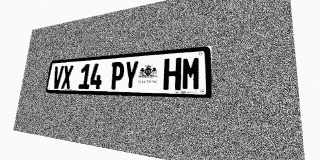1: (78, 64, 92, 89)
4: (89, 63, 103, 89)
H: (163, 57, 181, 90)
M: (181, 56, 201, 90)
P: (109, 61, 125, 89)
V: (52, 66, 64, 89)
X: (61, 65, 73, 89)
Y: (123, 60, 139, 90)
